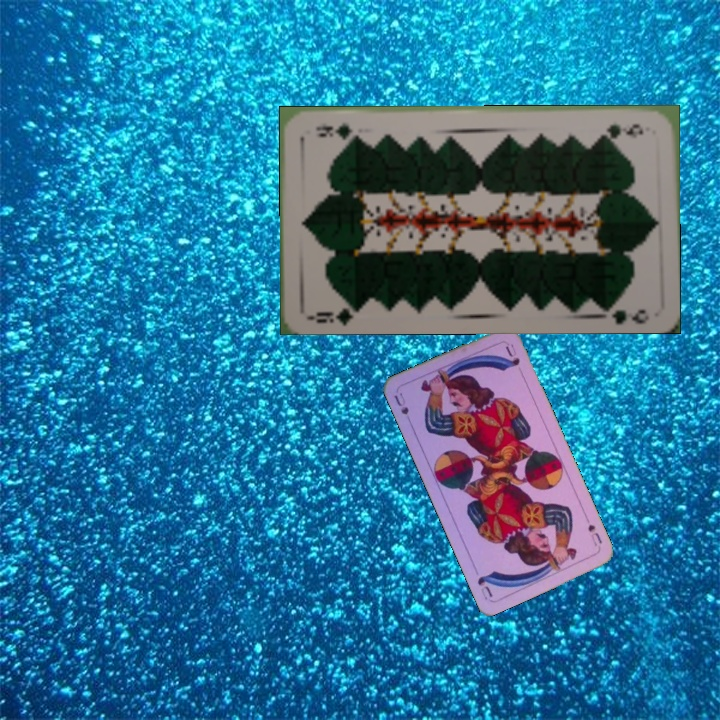G9: (305, 299, 364, 326), (596, 120, 645, 139)
SU: (581, 512, 605, 549), (390, 388, 412, 417)
